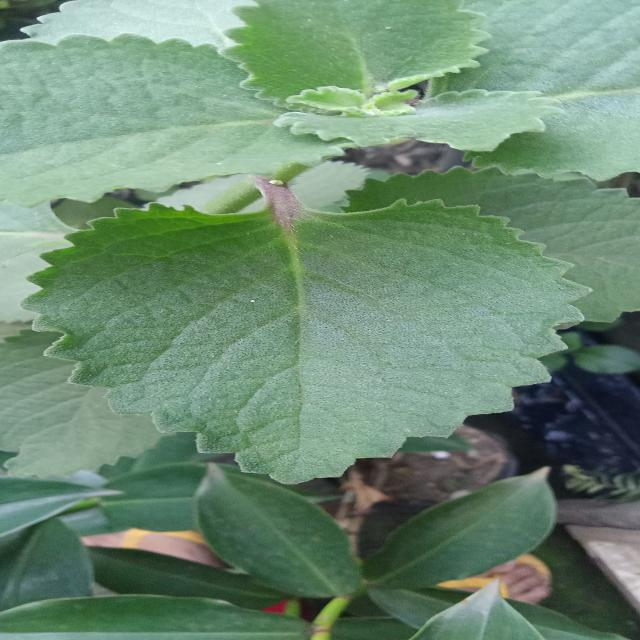Oregano: (35, 183, 606, 491)
